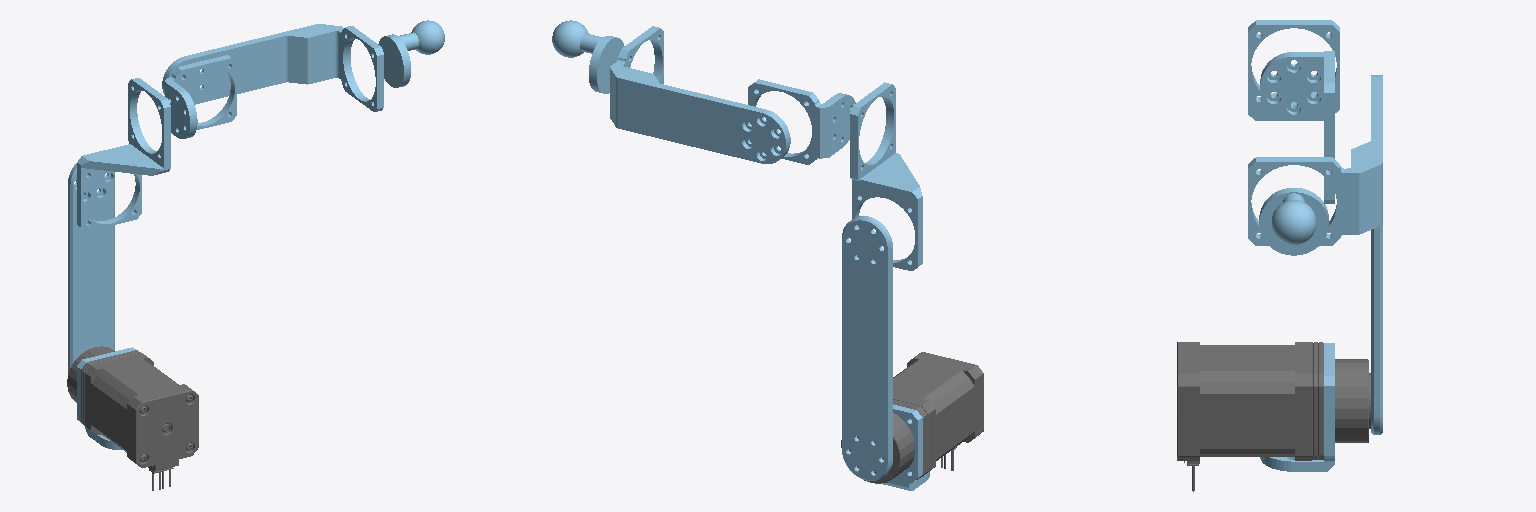
URDF robot description (my_robot):
<?xml version="1.0" ?>
<!-- Generated using onshape-to-robot -->
<!-- Onshape https://cad.onshape.com/documents/83f89d6fa1926c06de94a1ba/w/f48483f0232ca0364245b9ef/e/23190ec9e54ecdeeb2cfd9c2 -->
<robot name="my_robot">
  <!-- Link smalldrive -->
  <link name="smalldrive">
    <inertial>
      <origin xyz="0 0 0" rpy="0 0 0"/>
      <mass value="1e-09"/>
      <inertia ixx="1e-09" ixy="0" ixz="0" iyy="1e-09" iyz="0" izz="1e-09"/>
    </inertial>
    <!-- Part smalldrive -->
    <visual>
      <origin xyz="0 0 0.0395" rpy="-1.5708 -0 0"/>
      <geometry>
        <mesh filename="assets/smalldrive.stl"/>
      </geometry>
      <material name="smalldrive_material">
        <color rgba="0.498039 0.498039 0.498039 1"/>
      </material>
    </visual>
    <collision>
      <origin xyz="0 0 0.0395" rpy="-1.5708 -0 0"/>
      <geometry>
        <mesh filename="assets/smalldrive.stl"/>
      </geometry>
    </collision>
  </link>
  <!-- Link joint1 -->
  <link name="joint1">
    <inertial>
      <origin xyz="-0.00848581 -0 -0.0122782" rpy="0 0 0"/>
      <mass value="0.0172968"/>
      <inertia ixx="6.45831e-06" ixy="0" ixz="-1.24856e-06" iyy="5.6004e-06" iyz="0" izz="3.8029e-06"/>
    </inertial>
    <!-- Part bigdrive -->
    <visual>
      <origin xyz="0.00375 -0 -0.0275" rpy="-1.5708 -0 -1.5708"/>
      <geometry>
        <mesh filename="assets/bigdrive.stl"/>
      </geometry>
      <material name="bigdrive_material">
        <color rgba="0.498039 0.498039 0.498039 1"/>
      </material>
    </visual>
    <collision>
      <origin xyz="0.00375 -0 -0.0275" rpy="-1.5708 -0 -1.5708"/>
      <geometry>
        <mesh filename="assets/bigdrive.stl"/>
      </geometry>
    </collision>
    <!-- Part joint1 -->
    <visual>
      <origin xyz="-0 0 -0.005" rpy="3.14159 -0 0"/>
      <geometry>
        <mesh filename="assets/joint1.stl"/>
      </geometry>
      <material name="joint1_material">
        <color rgba="0.615686 0.811765 0.929412 1"/>
      </material>
    </visual>
    <collision>
      <origin xyz="-0 0 -0.005" rpy="3.14159 -0 0"/>
      <geometry>
        <mesh filename="assets/joint1.stl"/>
      </geometry>
    </collision>
  </link>
  <!-- Link arm1 -->
  <link name="arm1">
    <inertial>
      <origin xyz="0.0625 0 -0.00254403" rpy="0 0 0"/>
      <mass value="0.0554972"/>
      <inertia ixx="4.06983e-06" ixy="0" ixz="-0" iyy="9.44294e-05" iyz="0" izz="9.82715e-05"/>
    </inertial>
    <!-- Part arm1 -->
    <visual>
      <origin xyz="0.0625 0 -0.005" rpy="0 -0 0"/>
      <geometry>
        <mesh filename="assets/arm1.stl"/>
      </geometry>
      <material name="arm1_material">
        <color rgba="0.615686 0.811765 0.929412 1"/>
      </material>
    </visual>
    <collision>
      <origin xyz="0.0625 0 -0.005" rpy="0 -0 0"/>
      <geometry>
        <mesh filename="assets/arm1.stl"/>
      </geometry>
    </collision>
  </link>
  <!-- Link smalldrive_2 -->
  <link name="smalldrive_2">
    <inertial>
      <origin xyz="0.00720458 -0.0240019 -0.0284349" rpy="0 0 0"/>
      <mass value="0.0283008"/>
      <inertia ixx="1.49972e-05" ixy="2.93088e-06" ixz="1.52591e-06" iyy="8.55186e-06" iyz="-2.56579e-06" izz="1.53402e-05"/>
    </inertial>
    <!-- Part smalldrive_2 -->
    <visual>
      <origin xyz="0.0105 -0.048 -0.03425" rpy="-1.5708 1.5708 0"/>
      <geometry>
        <mesh filename="assets/smalldrive.stl"/>
      </geometry>
      <material name="smalldrive_2_material">
        <color rgba="0.498039 0.498039 0.498039 1"/>
      </material>
    </visual>
    <collision>
      <origin xyz="0.0105 -0.048 -0.03425" rpy="-1.5708 1.5708 0"/>
      <geometry>
        <mesh filename="assets/smalldrive.stl"/>
      </geometry>
    </collision>
    <!-- Part smalldrive_3 -->
    <visual>
      <origin xyz="0 -0 -0.026" rpy="-1.5708 -0 0"/>
      <geometry>
        <mesh filename="assets/smalldrive.stl"/>
      </geometry>
      <material name="smalldrive_3_material">
        <color rgba="0.498039 0.498039 0.498039 1"/>
      </material>
    </visual>
    <collision>
      <origin xyz="0 -0 -0.026" rpy="-1.5708 -0 0"/>
      <geometry>
        <mesh filename="assets/smalldrive.stl"/>
      </geometry>
    </collision>
    <!-- Part joint2 -->
    <visual>
      <origin xyz="-0 0 -0.021" rpy="-0 0 3.14159"/>
      <geometry>
        <mesh filename="assets/joint2.stl"/>
      </geometry>
      <material name="joint2_material">
        <color rgba="0.615686 0.811765 0.929412 1"/>
      </material>
    </visual>
    <collision>
      <origin xyz="-0 0 -0.021" rpy="-0 0 3.14159"/>
      <geometry>
        <mesh filename="assets/joint2.stl"/>
      </geometry>
    </collision>
  </link>
  <!-- Link joint1_2 -->
  <link name="joint1_2">
    <inertial>
      <origin xyz="0 0.00848581 0.0122782" rpy="0 0 0"/>
      <mass value="0.0172968"/>
      <inertia ixx="5.6004e-06" ixy="0" ixz="0" iyy="6.45831e-06" iyz="-1.24856e-06" izz="3.8029e-06"/>
    </inertial>
    <!-- Part joint1_2 -->
    <visual>
      <origin xyz="0 0 0.005" rpy="0 0 -1.5708"/>
      <geometry>
        <mesh filename="assets/joint1.stl"/>
      </geometry>
      <material name="joint1_2_material">
        <color rgba="0.615686 0.811765 0.929412 1"/>
      </material>
    </visual>
    <collision>
      <origin xyz="0 0 0.005" rpy="0 0 -1.5708"/>
      <geometry>
        <mesh filename="assets/joint1.stl"/>
      </geometry>
    </collision>
    <!-- Part smalldrive_4 -->
    <visual>
      <origin xyz="-0 0.00825 0.0275" rpy="-0 -0 -3.14159"/>
      <geometry>
        <mesh filename="assets/smalldrive.stl"/>
      </geometry>
      <material name="smalldrive_4_material">
        <color rgba="0.498039 0.498039 0.498039 1"/>
      </material>
    </visual>
    <collision>
      <origin xyz="-0 0.00825 0.0275" rpy="-0 -0 -3.14159"/>
      <geometry>
        <mesh filename="assets/smalldrive.stl"/>
      </geometry>
    </collision>
  </link>
  <!-- Link arm2 -->
  <link name="arm2">
    <inertial>
      <origin xyz="-0.0615505 0 0.00348904" rpy="0 0 0"/>
      <mass value="0.0695265"/>
      <inertia ixx="1.59281e-05" ixy="0" ixz="1.31117e-05" iyy="8.35088e-05" iyz="0" izz="8.0076e-05"/>
    </inertial>
    <!-- Part arm2 -->
    <visual>
      <origin xyz="-0.05 0 0" rpy="3.14159 -0 0"/>
      <geometry>
        <mesh filename="assets/arm2.stl"/>
      </geometry>
      <material name="arm2_material">
        <color rgba="0.615686 0.811765 0.929412 1"/>
      </material>
    </visual>
    <collision>
      <origin xyz="-0.05 0 0" rpy="3.14159 -0 0"/>
      <geometry>
        <mesh filename="assets/arm2.stl"/>
      </geometry>
    </collision>
    <!-- Part smalldrive_5 -->
    <visual>
      <origin xyz="-0.09 -0 0.03425" rpy="-1.5708 -1.5708 0"/>
      <geometry>
        <mesh filename="assets/smalldrive.stl"/>
      </geometry>
      <material name="smalldrive_5_material">
        <color rgba="0.498039 0.498039 0.498039 1"/>
      </material>
    </visual>
    <collision>
      <origin xyz="-0.09 -0 0.03425" rpy="-1.5708 -1.5708 0"/>
      <geometry>
        <mesh filename="assets/smalldrive.stl"/>
      </geometry>
    </collision>
  </link>
  <!-- Link ball_tool -->
  <link name="ball_tool">
    <inertial>
      <origin xyz="0.00571124 -0 -0.0139557" rpy="0 0 0"/>
      <mass value="0.0237583"/>
      <inertia ixx="3.86791e-06" ixy="0" ixz="1.16726e-06" iyy="4.44985e-06" iyz="-0" izz="2.28716e-06"/>
    </inertial>
    <!-- Part ball_tool -->
    <visual>
      <origin xyz="0.01 -0 0" rpy="3.14159 -0 0"/>
      <geometry>
        <mesh filename="assets/ball_tool.stl"/>
      </geometry>
      <material name="ball_tool_material">
        <color rgba="0.615686 0.811765 0.929412 1"/>
      </material>
    </visual>
    <collision>
      <origin xyz="0.01 -0 0" rpy="3.14159 -0 0"/>
      <geometry>
        <mesh filename="assets/ball_tool.stl"/>
      </geometry>
    </collision>
  </link>
  <!-- Joint from arm2 to ball_tool -->
  <joint name="swivel" type="revolute">
    <origin xyz="-0.116 -0 0.03425" rpy="-1.5708 -0 -1.5708"/>
    <parent link="arm2"/>
    <child link="ball_tool"/>
    <axis xyz="0 0 1"/>
    <limit effort="10" velocity="10" lower="-3.141592653589793" upper="3.141592653589793"/>
  </joint>
  <!-- Joint from joint1_2 to arm2 -->
  <joint name="wrist" type="revolute">
    <origin xyz="-0 0.03425 0.0275" rpy="1.5708 1.5708 0"/>
    <parent link="joint1_2"/>
    <child link="arm2"/>
    <axis xyz="0 0 1"/>
    <limit effort="10" velocity="10" lower="-3.141592653589793" upper="3.141592653589793"/>
  </joint>
  <!-- Joint from smalldrive_2 to joint1_2 -->
  <joint name="rotation" type="revolute">
    <origin xyz="0.0365 -0.048 -0.03425" rpy="1.5708 -0 1.5708"/>
    <parent link="smalldrive_2"/>
    <child link="joint1_2"/>
    <axis xyz="0 0 1"/>
    <limit effort="10" velocity="10" lower="-3.141592653589793" upper="3.141592653589793"/>
  </joint>
  <!-- Joint from arm1 to smalldrive_2 -->
  <joint name="elbow" type="revolute">
    <origin xyz="0.125 0 0" rpy="-3.14159 -0 -1.5708"/>
    <parent link="arm1"/>
    <child link="smalldrive_2"/>
    <axis xyz="0 0 1"/>
    <limit effort="10" velocity="10" lower="-3.141592653589793" upper="3.141592653589793"/>
  </joint>
  <!-- Joint from joint1 to arm1 -->
  <joint name="shoulder" type="revolute">
    <origin xyz="-0.03425 0 -0.0275" rpy="0 1.5708 0"/>
    <parent link="joint1"/>
    <child link="arm1"/>
    <axis xyz="0 0 1"/>
    <limit effort="10" velocity="10" lower="-3.141592653589793" upper="3.141592653589793"/>
  </joint>
  <!-- Joint from smalldrive to joint1 -->
  <joint name="base" type="revolute">
    <origin xyz="-0 0 0.0655" rpy="3.14159 -0 -1.5708"/>
    <parent link="smalldrive"/>
    <child link="joint1"/>
    <axis xyz="0 0 1"/>
    <limit effort="10" velocity="10" lower="-3.141592653589793" upper="3.141592653589793"/>
  </joint>
</robot>

--- Render facts (derived) ---
3 views of the same robot in one strip: view 1: azimuth 30°, elevation 25°; view 2: azimuth 150°, elevation 25°; view 3: azimuth 270°, elevation 25° (orthographic).
Model my_robot with 7 links and 6 joints (6 revolute), rooted at smalldrive, posed all joints at 0.
Links seen in each view (by area): view 1: joint1, arm2, arm1, smalldrive_2, joint1_2, ball_tool; view 2: arm1, arm2, joint1, smalldrive_2, joint1_2, ball_tool; view 3: joint1, arm2, joint1_2, ball_tool, smalldrive_2, arm1.
Boxes of the visible links, <box> form: joint1: <box>67,346,198,490</box>; arm2: <box>162,24,383,111</box>; arm1: <box>68,163,114,373</box>; smalldrive_2: <box>77,78,170,231</box>; joint1_2: <box>165,55,236,138</box>; ball_tool: <box>378,20,444,87</box>; arm1: <box>842,216,892,480</box>; arm2: <box>610,26,790,163</box>; joint1: <box>841,352,983,490</box>; smalldrive_2: <box>850,82,922,270</box>; joint1_2: <box>748,79,855,164</box>; ball_tool: <box>552,20,624,93</box>; joint1: <box>1177,342,1370,491</box>; arm2: <box>1248,75,1382,245</box>; joint1_2: <box>1260,51,1334,158</box>; ball_tool: <box>1259,188,1328,255</box>; smalldrive_2: <box>1248,20,1339,203</box>; arm1: <box>1371,225,1382,434</box>.
Size in the robot's own frame: 0.2362 by 0.091 by 0.2347 metres.
7 mesh visuals loaded from 7 distinct referenced files (6 binary STL); not drawn: 5 (reference not matched to a file when rendering).
